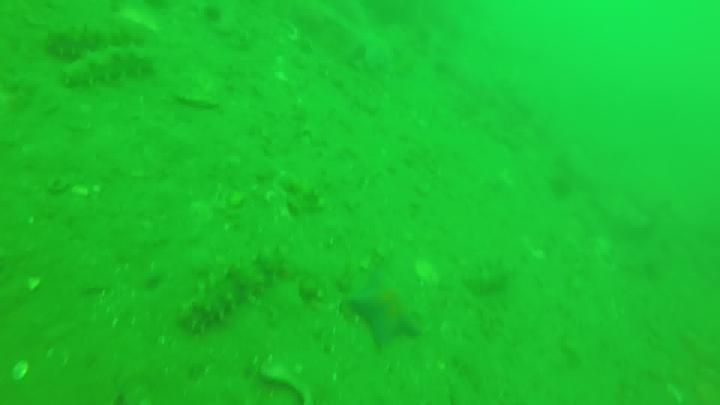holothurian: (181, 249, 297, 334), (62, 52, 154, 84), (43, 26, 143, 55)
scallop: (415, 261, 437, 283), (8, 360, 30, 380), (26, 276, 42, 292)
starfish: (352, 270, 431, 348)
